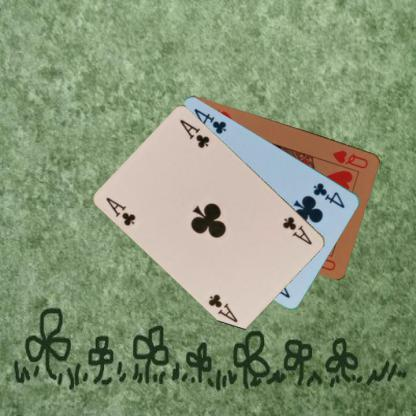4c: (310, 180, 347, 210)
Ac: (104, 194, 138, 228), (280, 214, 314, 246)
Qh: (330, 147, 370, 170)
